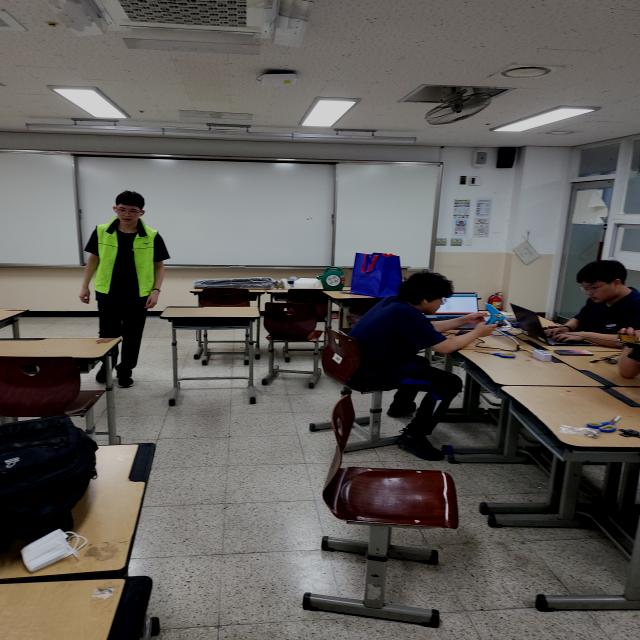weston_spy: (92, 220, 164, 308)
